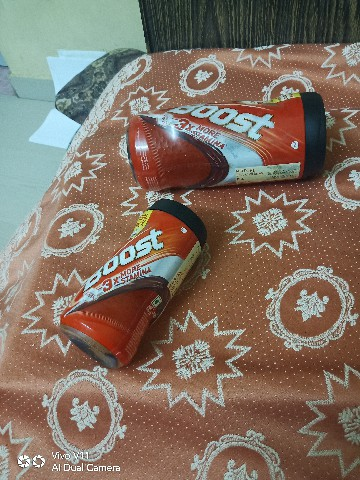boost big: (118, 80, 338, 194)
boost small: (35, 197, 211, 362)
